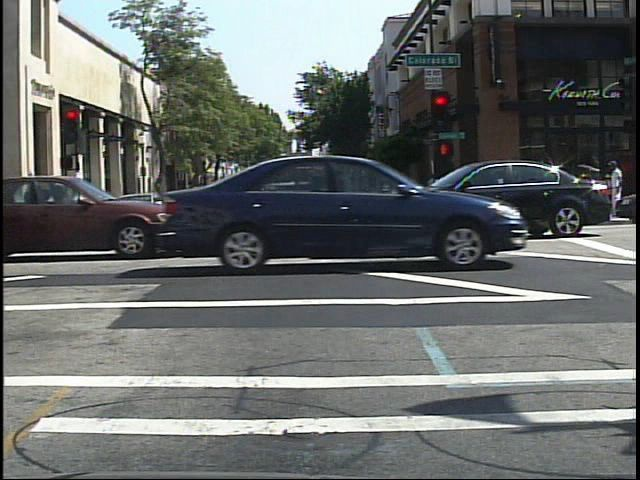person: (604, 156, 630, 221)
